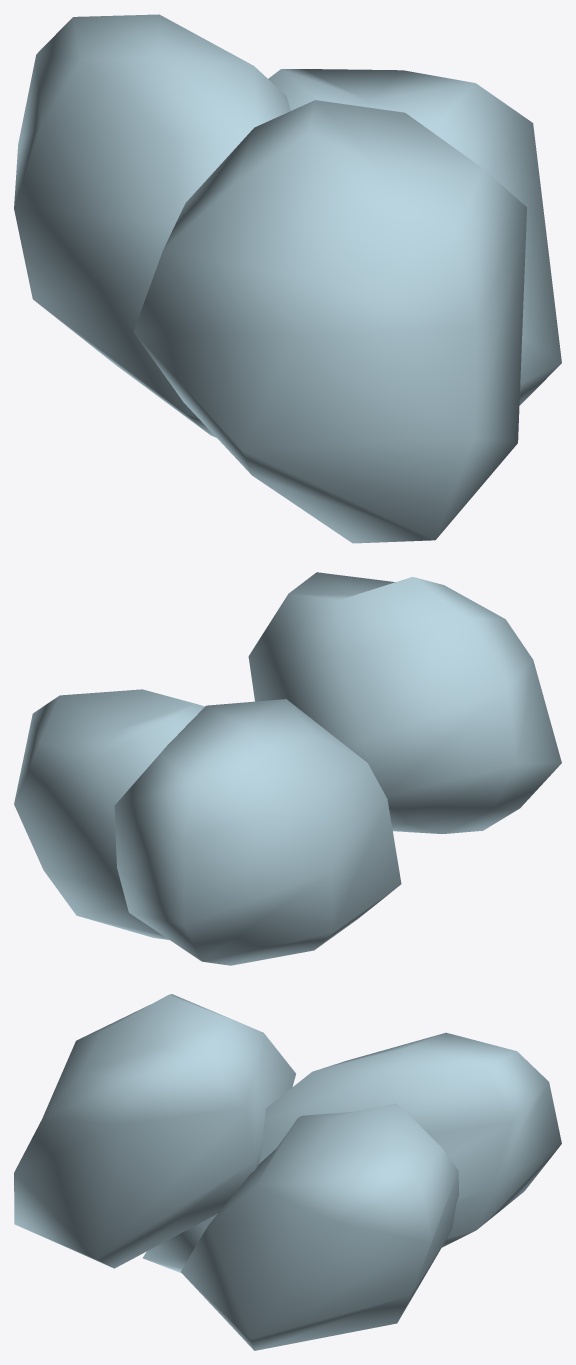
Rendered from snow_balls.fbx.
3 views of the same model, one above another, from view 1: azimuth 30°, elevation 25°; view 2: azimuth 150°, elevation 25°; view 3: azimuth 270°, elevation 25° (orthographic). The views are drawn at different scales.
Visible parts, largest first — view 1: pSphere46, pSphere44, pSphere45; view 2: pSphere44, pSphere46, pSphere45; view 3: pSphere46, pSphere45, pSphere44.
Part boxes in pixels (x1,y1,x2,y2): pSphere46: [133, 100, 526, 543]; pSphere44: [14, 14, 290, 437]; pSphere45: [268, 69, 561, 405]; pSphere44: [114, 699, 401, 965]; pSphere46: [248, 572, 561, 833]; pSphere45: [14, 689, 204, 940]; pSphere46: [14, 994, 295, 1268]; pSphere45: [181, 1103, 459, 1350]; pSphere44: [142, 1032, 561, 1272].
Bounding box in the file's own units: 20.13 × 15.36 × 27.88.
